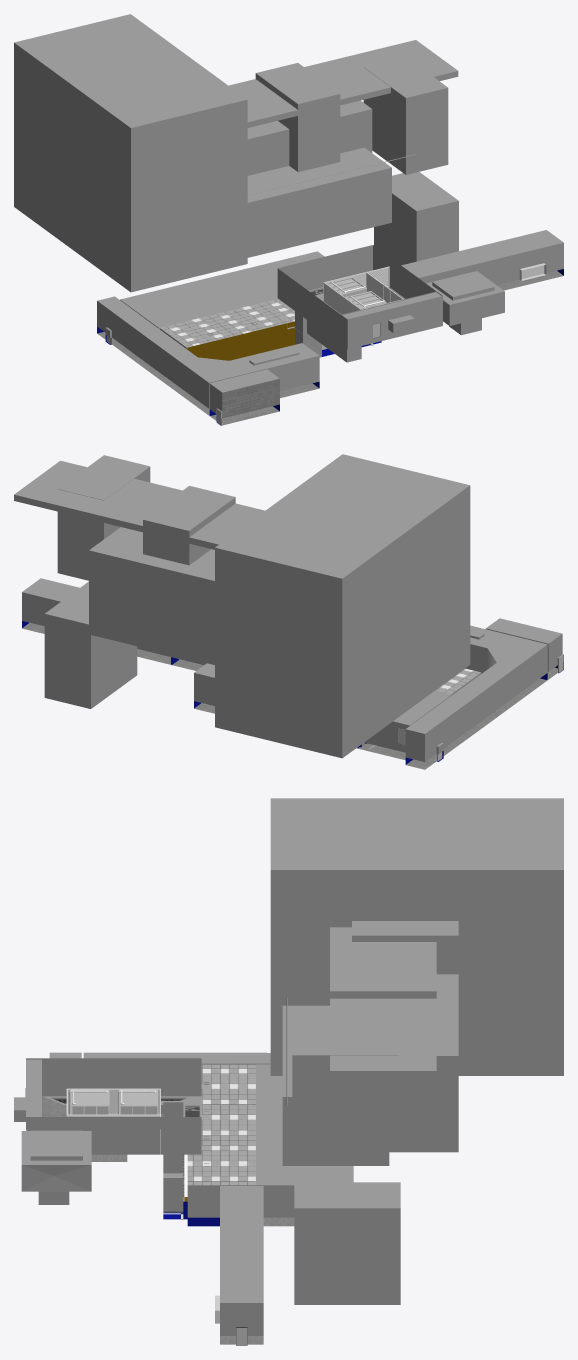
Rendered from TestAreaNew.fbx.
3 views of the same model, one above another, from view 1: azimuth 30°, elevation 25°; view 2: azimuth 150°, elevation 25°; view 3: azimuth 270°, elevation 25° (orthographic). The views are drawn at different scales.
Parts seen in each view (by area): view 1: pCube128, pCube115, polySurface61, polySurface42, pCube129, pCube132, pCube130, pCube88, WallThatwastherebefore1, pCube131, polySurface58, pCube126 (+3 smaller); view 2: pCube128, pCube126, polySurface42, pCube130, pCube132, pCube129, pCube131, pCube88, polySurface58, polySurface43, WallThatwastherebefore1; view 3: pCube128, polySurface61, pCube130, pCube129, pCube132, WallThatwastherebefore1, polySurface58, pCube126, pCube88, polySurface62, pCube115, pCube131 (+3 smaller).
Part boxes in pixels (x1=…): pCube128: x1=14, y1=14, x2=247, y2=292; pCube115: x1=247, y1=147, x2=391, y2=257; polySurface61: x1=277, y1=245, x2=442, y2=362; polySurface42: x1=97, y1=296, x2=319, y2=415; pCube129: x1=363, y1=56, x2=448, y2=174; pCube132: x1=229, y1=40, x2=458, y2=127; pCube130: x1=374, y1=172, x2=458, y2=265; pCube88: x1=120, y1=251, x2=324, y2=328; WallThatwastherebefore1: x1=159, y1=299, x2=294, y2=360; pCube131: x1=255, y1=63, x2=340, y2=172; polySurface58: x1=401, y1=230, x2=563, y2=290; pCube126: x1=247, y1=100, x2=372, y2=175; pCube128: x1=215, y1=454, x2=470, y2=758; pCube126: x1=89, y1=527, x2=214, y2=664; polySurface42: x1=405, y1=625, x2=547, y2=769; pCube130: x1=44, y1=581, x2=137, y2=708; pCube132: x1=14, y1=460, x2=264, y2=549; pCube129: x1=57, y1=455, x2=150, y2=580; pCube131: x1=143, y1=486, x2=235, y2=565; pCube88: x1=194, y1=663, x2=452, y2=760; polySurface58: x1=22, y1=578, x2=206, y2=670; polySurface43: x1=485, y1=618, x2=563, y2=679; WallThatwastherebefore1: x1=436, y1=668, x2=481, y2=694; pCube128: x1=270, y1=798, x2=563, y2=1075; polySurface61: x1=26, y1=1058, x2=201, y2=1219; pCube130: x1=294, y1=1182, x2=400, y2=1304; pCube129: x1=292, y1=1029, x2=398, y2=1151; pCube132: x1=330, y1=927, x2=436, y2=1078; WallThatwastherebefore1: x1=183, y1=1064, x2=255, y2=1226; polySurface58: x1=215, y1=1186, x2=263, y2=1344; pCube126: x1=352, y1=974, x2=458, y2=1152; pCube88: x1=256, y1=1064, x2=353, y2=1226; polySurface62: x1=21, y1=1130, x2=91, y2=1204; pCube115: x1=282, y1=1005, x2=389, y2=1165; pCube131: x1=330, y1=965, x2=436, y2=998.
Size of the model in its own units: 7681 by 4239 by 7048.
